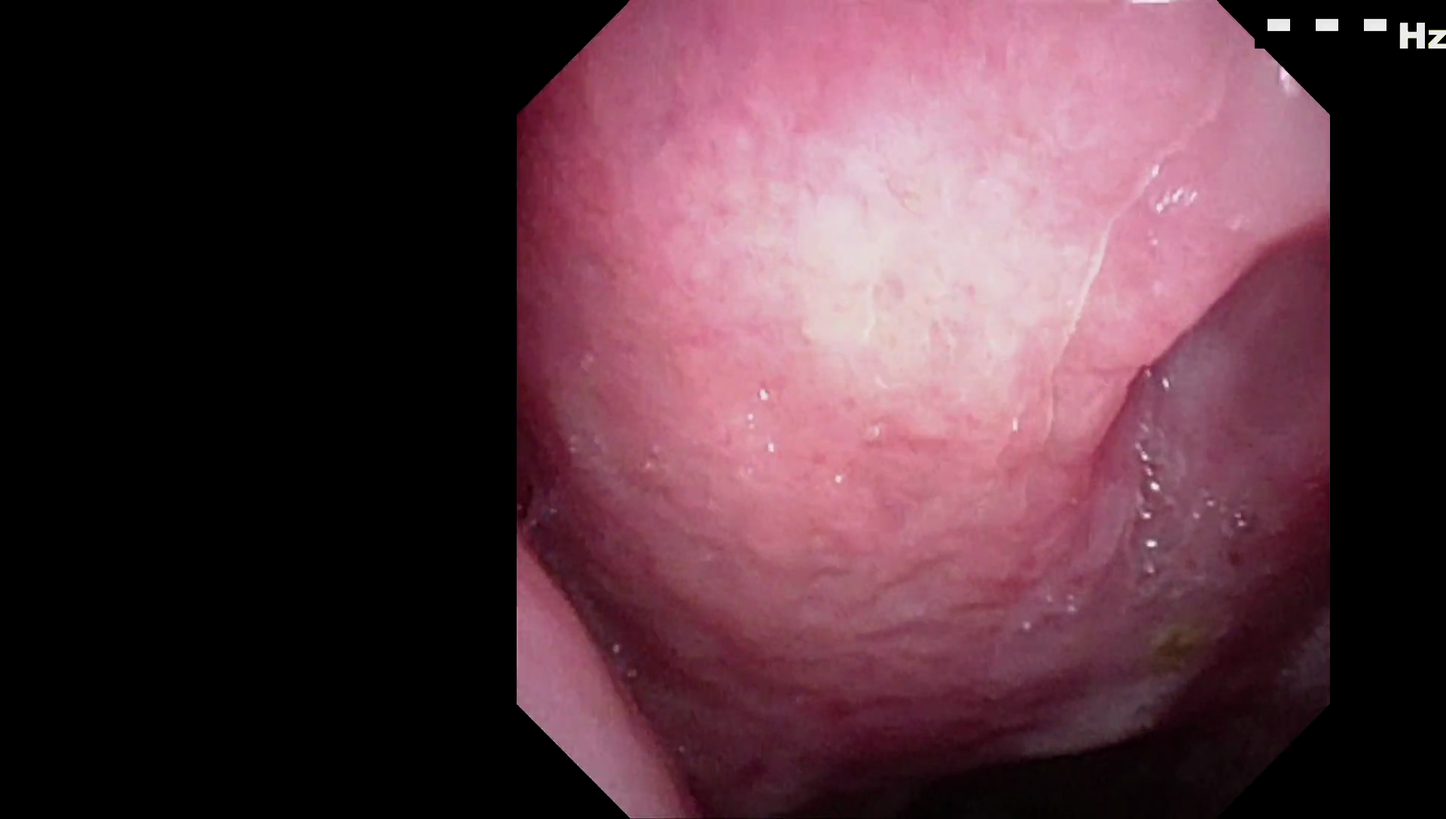close_wall: (654, 65, 1264, 507)
next: (661, 620, 1320, 819)
